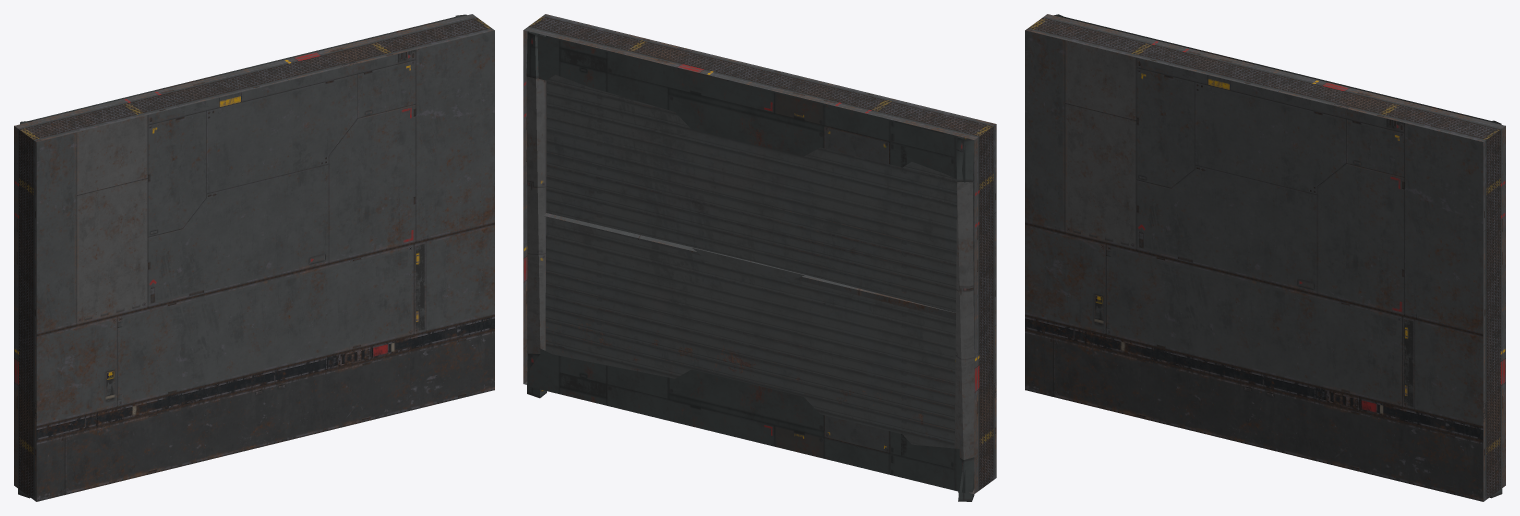
File: ARC0910160.fbx
3 renders of one model, left to right at view 1: azimuth 30°, elevation 25°; view 2: azimuth 150°, elevation 25°; view 3: azimuth 330°, elevation 25°, orthographic.
Parts seen in each view (by area): view 1: smARC0910160; view 2: smARC0910160; view 3: smARC0910160.
Boxes of the visible parts, x1,y1,x2,y2 form: smARC0910160: (14, 14, 494, 501); smARC0910160: (523, 14, 996, 501); smARC0910160: (1025, 14, 1505, 501).
Bounding box in the file's own units: 400 × 308 × 38.12.
1 material, 1 textured.
